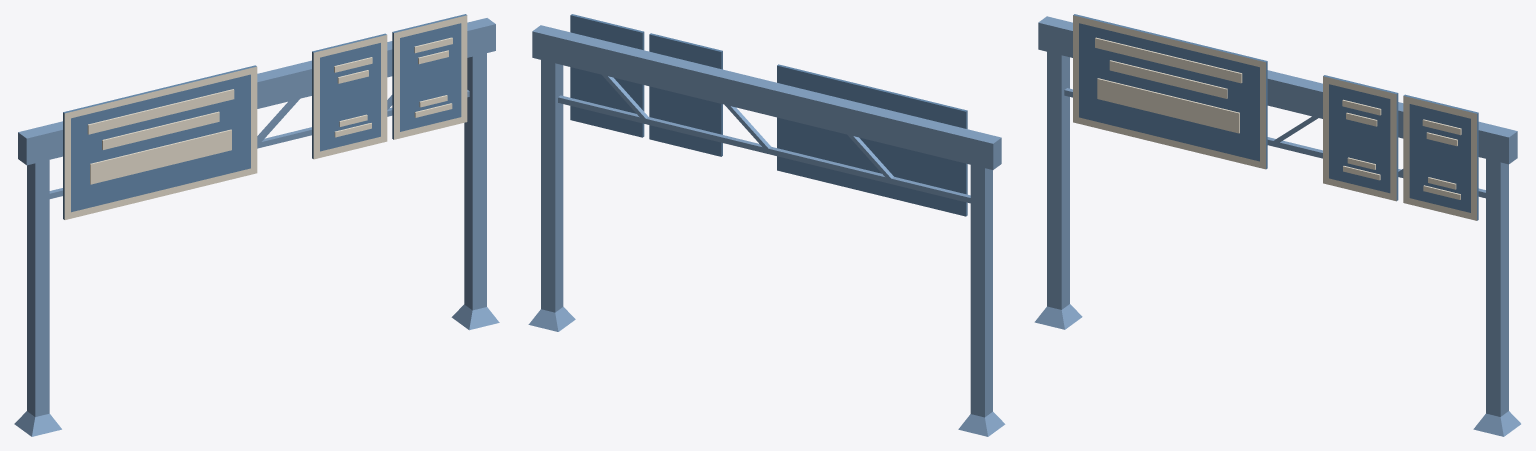
File: Road_Sign.fbx
The picture shows the model from 3 angles, left to right: view 1: azimuth 30°, elevation 25°; view 2: azimuth 150°, elevation 25°; view 3: azimuth 330°, elevation 25°; orthographic projection. The views are drawn at different scales.
Parts seen in each view (by area): view 1: RoadSign; view 2: RoadSign; view 3: RoadSign.
Boxes of the visible parts, x1=… form: RoadSign: x1=14, y1=14, x2=499, y2=436; RoadSign: x1=528, y1=14, x2=1005, y2=436; RoadSign: x1=1034, y1=14, x2=1520, y2=436.
Size of the model in its own units: 418 by 266 by 27.27.
